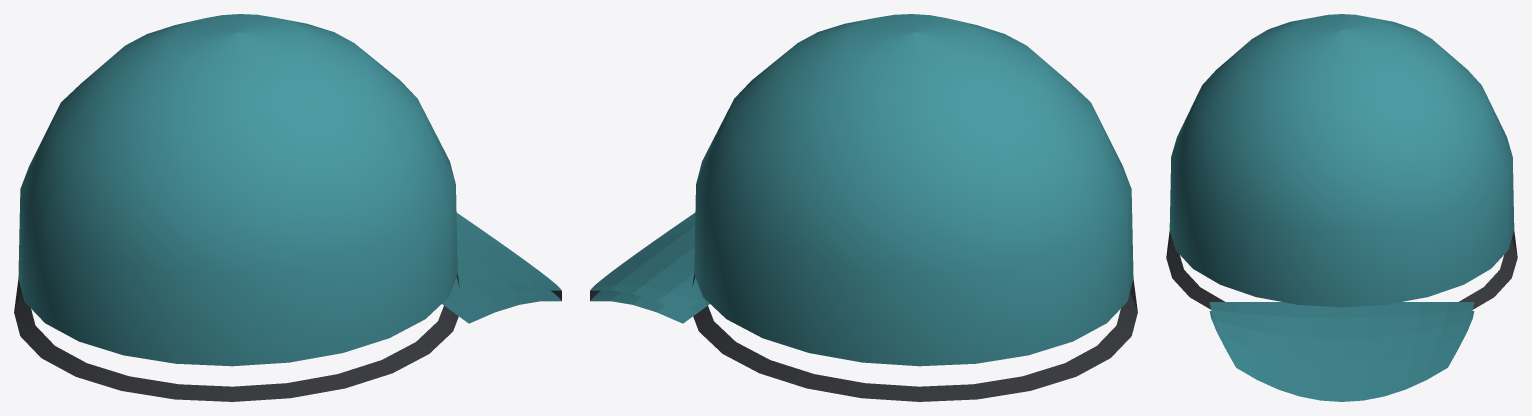
File: SM_C26_Cap_Hero.fbx
3 renders of one model, left to right at view 1: azimuth 30°, elevation 25°; view 2: azimuth 150°, elevation 25°; view 3: azimuth 270°, elevation 25°, orthographic. The views are drawn at different scales.
Parts seen in each view (by area): view 1: SM_C26_Cap_Hero; view 2: SM_C26_Cap_Hero; view 3: SM_C26_Cap_Hero.
Boxes of the visible parts, <box> form: SM_C26_Cap_Hero: <box>14,14,561,401</box>; SM_C26_Cap_Hero: <box>590,14,1137,401</box>; SM_C26_Cap_Hero: <box>1166,14,1517,401</box>.
Size of the model in its own units: 28.54 by 21.75 by 17.46.
